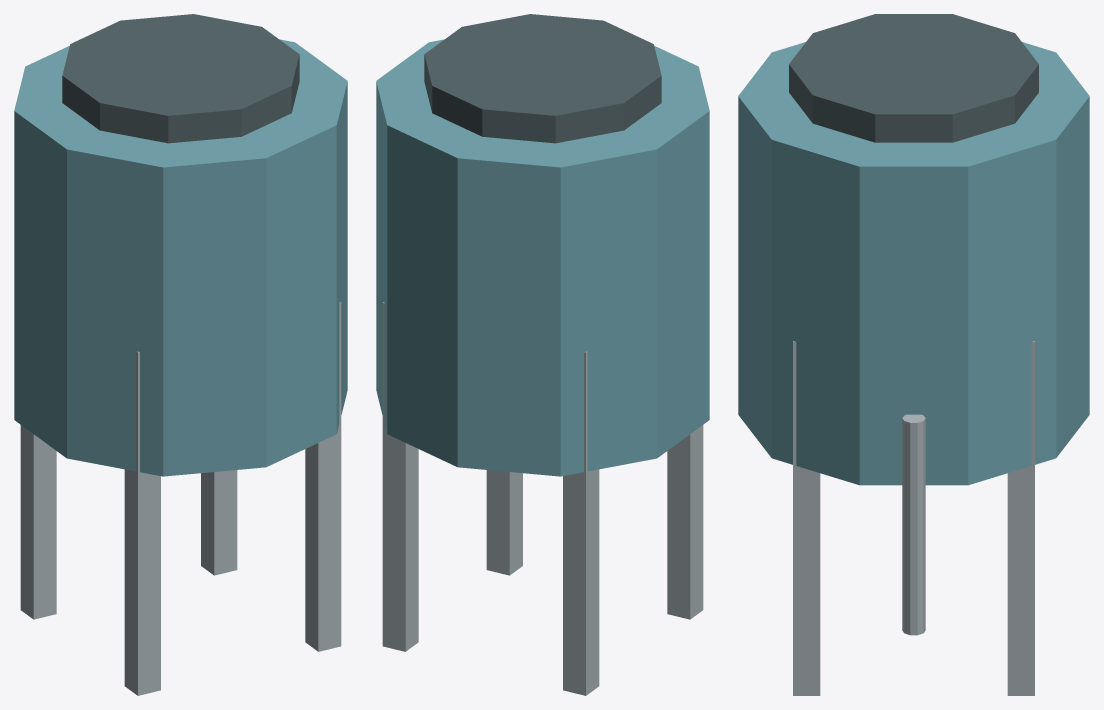
The model's file is yaba_rooftop_water_tank.glb.
3 views of the same model, side by side, from view 1: azimuth 30°, elevation 25°; view 2: azimuth 150°, elevation 25°; view 3: azimuth 270°, elevation 25° (orthographic). The views are drawn at different scales.
Parts seen in each view (by area): view 1: tank_body, tank_cap, tank_leg_-0.55_0.55, tank_leg_0.55_0.55, tank_leg_-0.55_-0.55, tank_leg_0.55_-0.55; view 2: tank_body, tank_cap, tank_leg_-0.55_-0.55, tank_leg_0.55_-0.55, tank_leg_-0.55_0.55, tank_leg_0.55_0.55; view 3: tank_body, tank_cap, tank_leg_0.55_0.55, tank_leg_0.55_-0.55, tank_pipe.
Part boxes in pixels (x1=…): tank_body: x1=14, y1=39, x2=347, y2=476; tank_cap: x1=62, y1=14, x2=299, y2=143; tank_leg_-0.55_0.55: x1=124, y1=351, x2=160, y2=695; tank_leg_0.55_0.55: x1=305, y1=302, x2=341, y2=651; tank_leg_-0.55_-0.55: x1=20, y1=425, x2=56, y2=619; tank_leg_0.55_-0.55: x1=201, y1=470, x2=237, y2=575; tank_body: x1=376, y1=39, x2=709, y2=476; tank_cap: x1=424, y1=14, x2=661, y2=143; tank_leg_-0.55_-0.55: x1=563, y1=351, x2=599, y2=695; tank_leg_0.55_-0.55: x1=382, y1=302, x2=418, y2=651; tank_leg_-0.55_0.55: x1=667, y1=425, x2=703, y2=619; tank_leg_0.55_0.55: x1=486, y1=470, x2=522, y2=575; tank_body: x1=738, y1=42, x2=1089, y2=485; tank_cap: x1=789, y1=14, x2=1038, y2=142; tank_leg_0.55_0.55: x1=793, y1=341, x2=820, y2=695; tank_leg_0.55_-0.55: x1=1007, y1=341, x2=1034, y2=695; tank_pipe: x1=902, y1=414, x2=925, y2=635.
Size of what is drawn, in the model's own units: 1.81 by 3.28 by 1.8.
